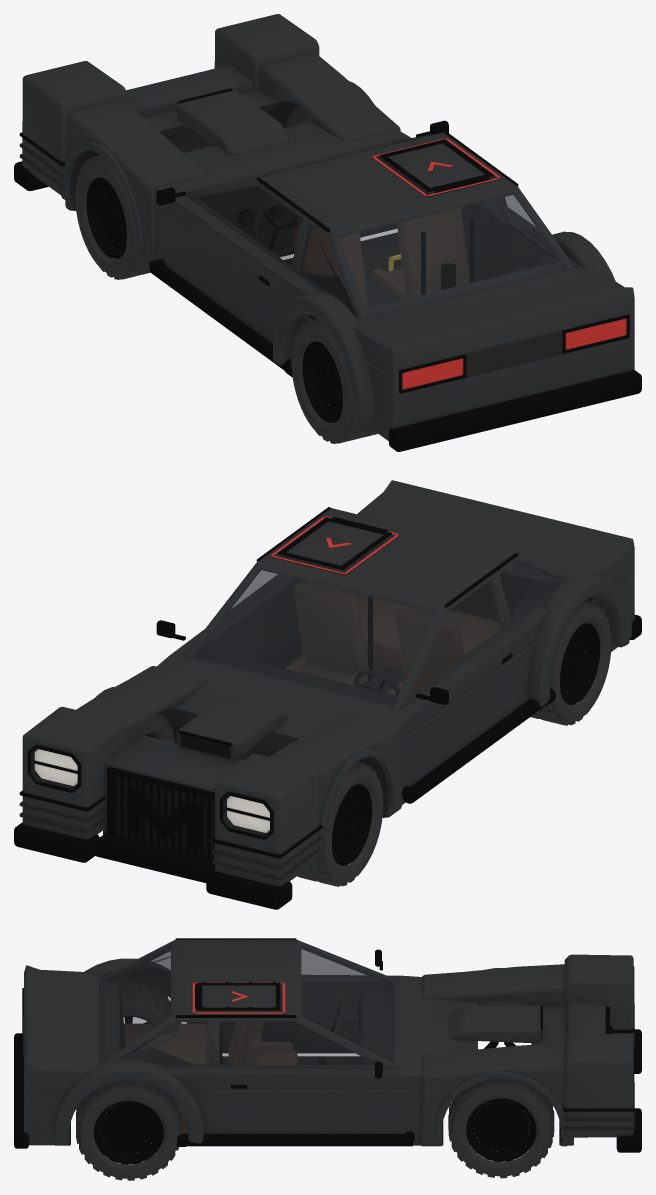
The model's file is maniak_car.25b5725c.glb.
3 renders of one model, top to bottom at view 1: azimuth 30°, elevation 25°; view 2: azimuth 150°, elevation 25°; view 3: azimuth 270°, elevation 25°, orthographic. The views are drawn at different scales.
Visible parts, largest first — view 1: body_lod0, glass, eject_seat, wheel_rl, wheel_fl, hatch; view 2: body_lod0, glass, eject_seat, wheel_fl, wheel_rl, hatch; view 3: body_lod0, glass, wheel_fr, wheel_rr, hatch, wheel_rl, eject_seat, wheel_fl.
Part boxes in pixels (box(x1,y1,x2,y2)): body_lod0: box(14, 14, 641, 451); glass: box(196, 135, 566, 317); eject_seat: box(372, 208, 474, 299); wheel_rl: box(291, 319, 377, 443); wheel_fl: box(75, 155, 150, 279); hatch: box(379, 139, 493, 194); body_lod0: box(14, 480, 641, 909); glass: box(189, 561, 568, 708); eject_seat: box(285, 581, 372, 684); wheel_fl: box(297, 762, 383, 886); wheel_rl: box(531, 600, 611, 725); hatch: box(278, 517, 391, 572); body_lod0: box(14, 938, 641, 1152); glass: box(103, 944, 399, 1065); wheel_fr: box(448, 1078, 554, 1178); wheel_rr: box(76, 1080, 181, 1180); hatch: box(195, 981, 280, 1012); wheel_rl: box(120, 983, 181, 1033); eject_seat: box(219, 1022, 264, 1064); wheel_fl: box(478, 997, 531, 1048).
Size of what is drawn, in the model's own units: 2.4 by 1.45 by 5.36.
Materials: 2 (1 with a texture image).
